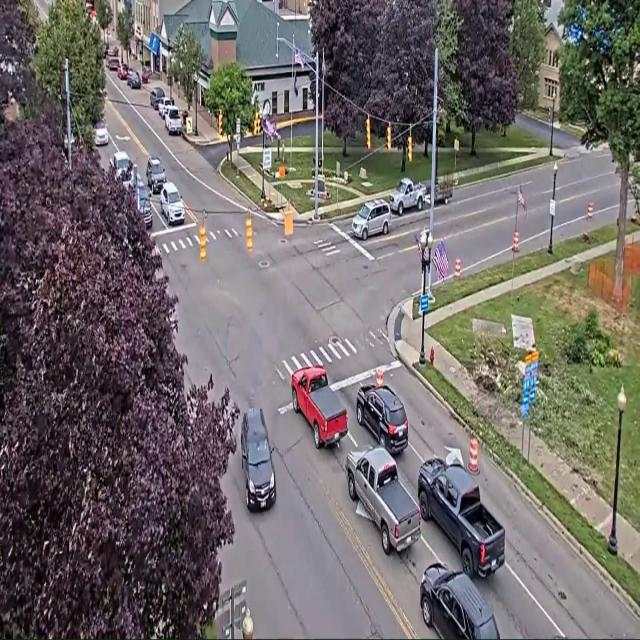car: (420, 563, 499, 639), (356, 384, 408, 454), (241, 408, 276, 511), (352, 200, 390, 240), (161, 183, 184, 225), (137, 177, 152, 228), (146, 157, 165, 193), (111, 152, 132, 181), (94, 121, 110, 147), (158, 96, 174, 119), (150, 87, 164, 110), (127, 71, 141, 88), (107, 56, 119, 71), (141, 68, 151, 84), (118, 64, 128, 79), (108, 47, 118, 57), (104, 43, 109, 59), (64, 134, 68, 151)
traffic signal: (246, 215, 252, 252), (200, 224, 206, 261), (254, 112, 261, 135), (366, 116, 370, 149), (387, 124, 391, 150), (408, 136, 412, 161), (218, 111, 222, 135)
truck: (418, 457, 505, 577), (346, 446, 420, 554), (291, 367, 347, 448), (389, 178, 429, 215), (435, 174, 455, 205), (165, 106, 182, 135)
